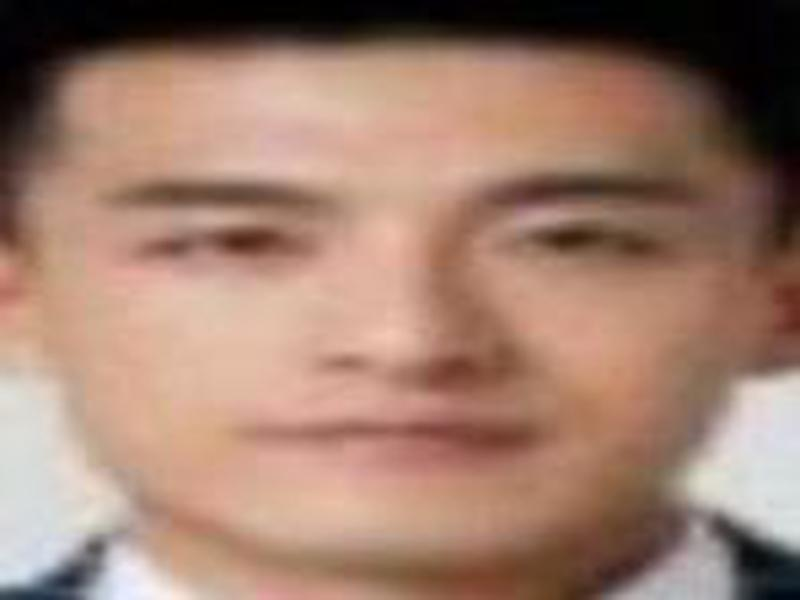without_mask: (55, 57, 742, 561)
